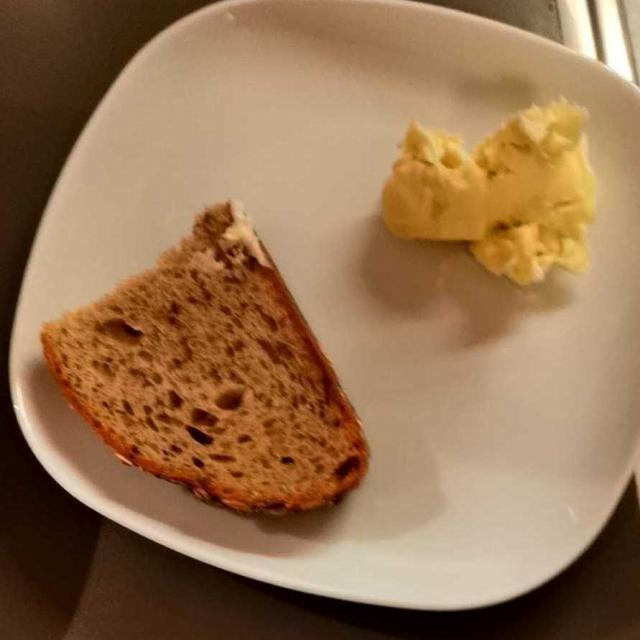bread: (48, 205, 366, 511)
cheese: (386, 89, 612, 290)
